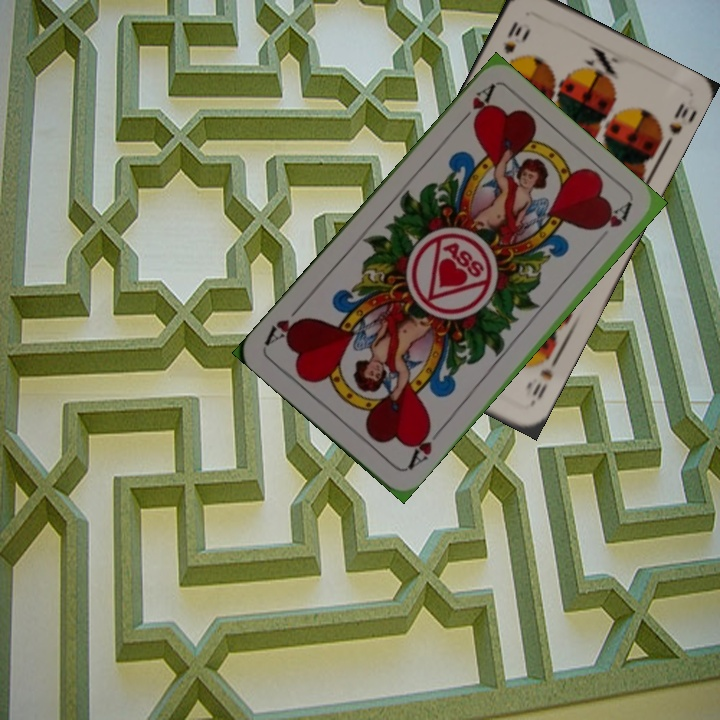HA: (452, 81, 497, 130), (403, 421, 446, 472)
S10: (528, 354, 561, 402), (499, 17, 530, 57)
